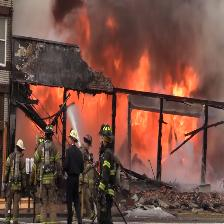fire: (36, 89, 112, 128), (113, 113, 205, 138), (113, 67, 196, 93)
smoke: (88, 2, 215, 50)
